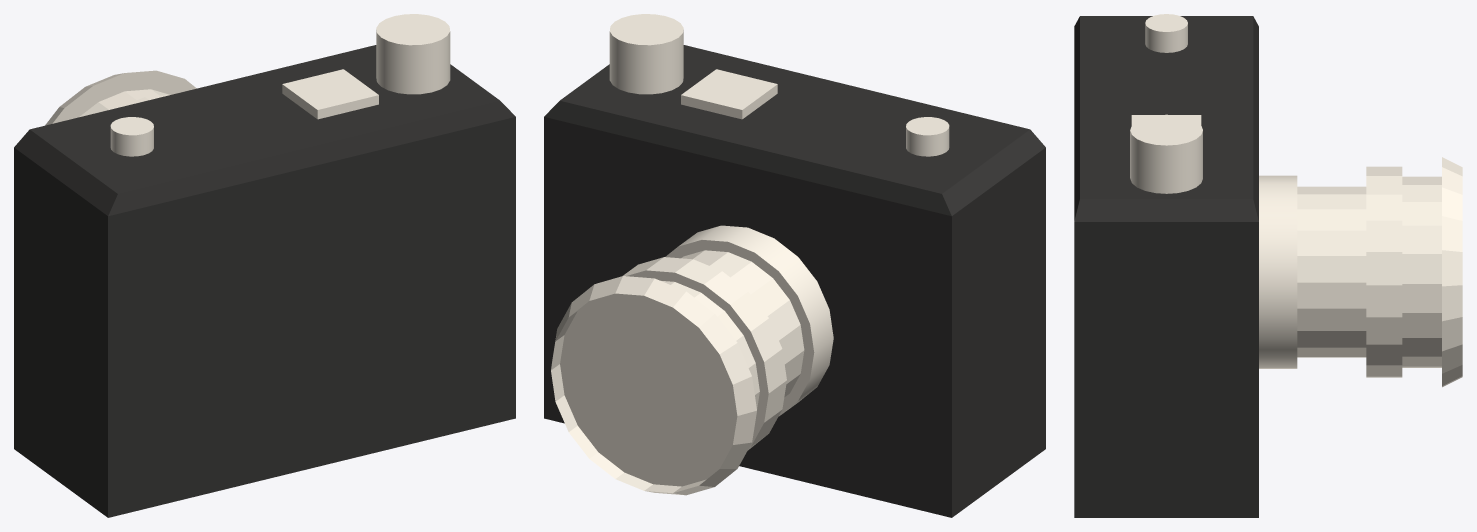
Rendered from Camera.fbx.
3 renders of one model, left to right at view 1: azimuth 30°, elevation 25°; view 2: azimuth 150°, elevation 25°; view 3: azimuth 270°, elevation 25°, orthographic.
Visible parts, largest first — view 1: pCube92, pCylinder15, pCylinder14, pCube93, pCylinder16; view 2: pCube92, pCylinder14, pCylinder15, pCube93, pCylinder16; view 3: pCube92, pCylinder14, pCylinder15, pCylinder16.
Boxes of the visible parts, bbox=[...] form: pCube92: bbox=[14, 45, 515, 517]; pCylinder15: bbox=[376, 14, 450, 94]; pCylinder14: bbox=[45, 70, 196, 125]; pCube93: bbox=[282, 69, 378, 119]; pCylinder16: bbox=[110, 117, 153, 156]; pCube92: bbox=[544, 45, 1045, 517]; pCylinder14: bbox=[551, 225, 833, 495]; pCylinder15: bbox=[609, 14, 683, 94]; pCube93: bbox=[681, 69, 777, 119]; pCylinder16: bbox=[906, 117, 949, 156]; pCube92: bbox=[1074, 16, 1258, 517]; pCylinder14: bbox=[1259, 157, 1462, 387]; pCylinder15: bbox=[1130, 114, 1202, 193]; pCylinder16: bbox=[1145, 14, 1187, 52].
Size of the model in its own units: 2.61 by 2.25 by 2.2.
